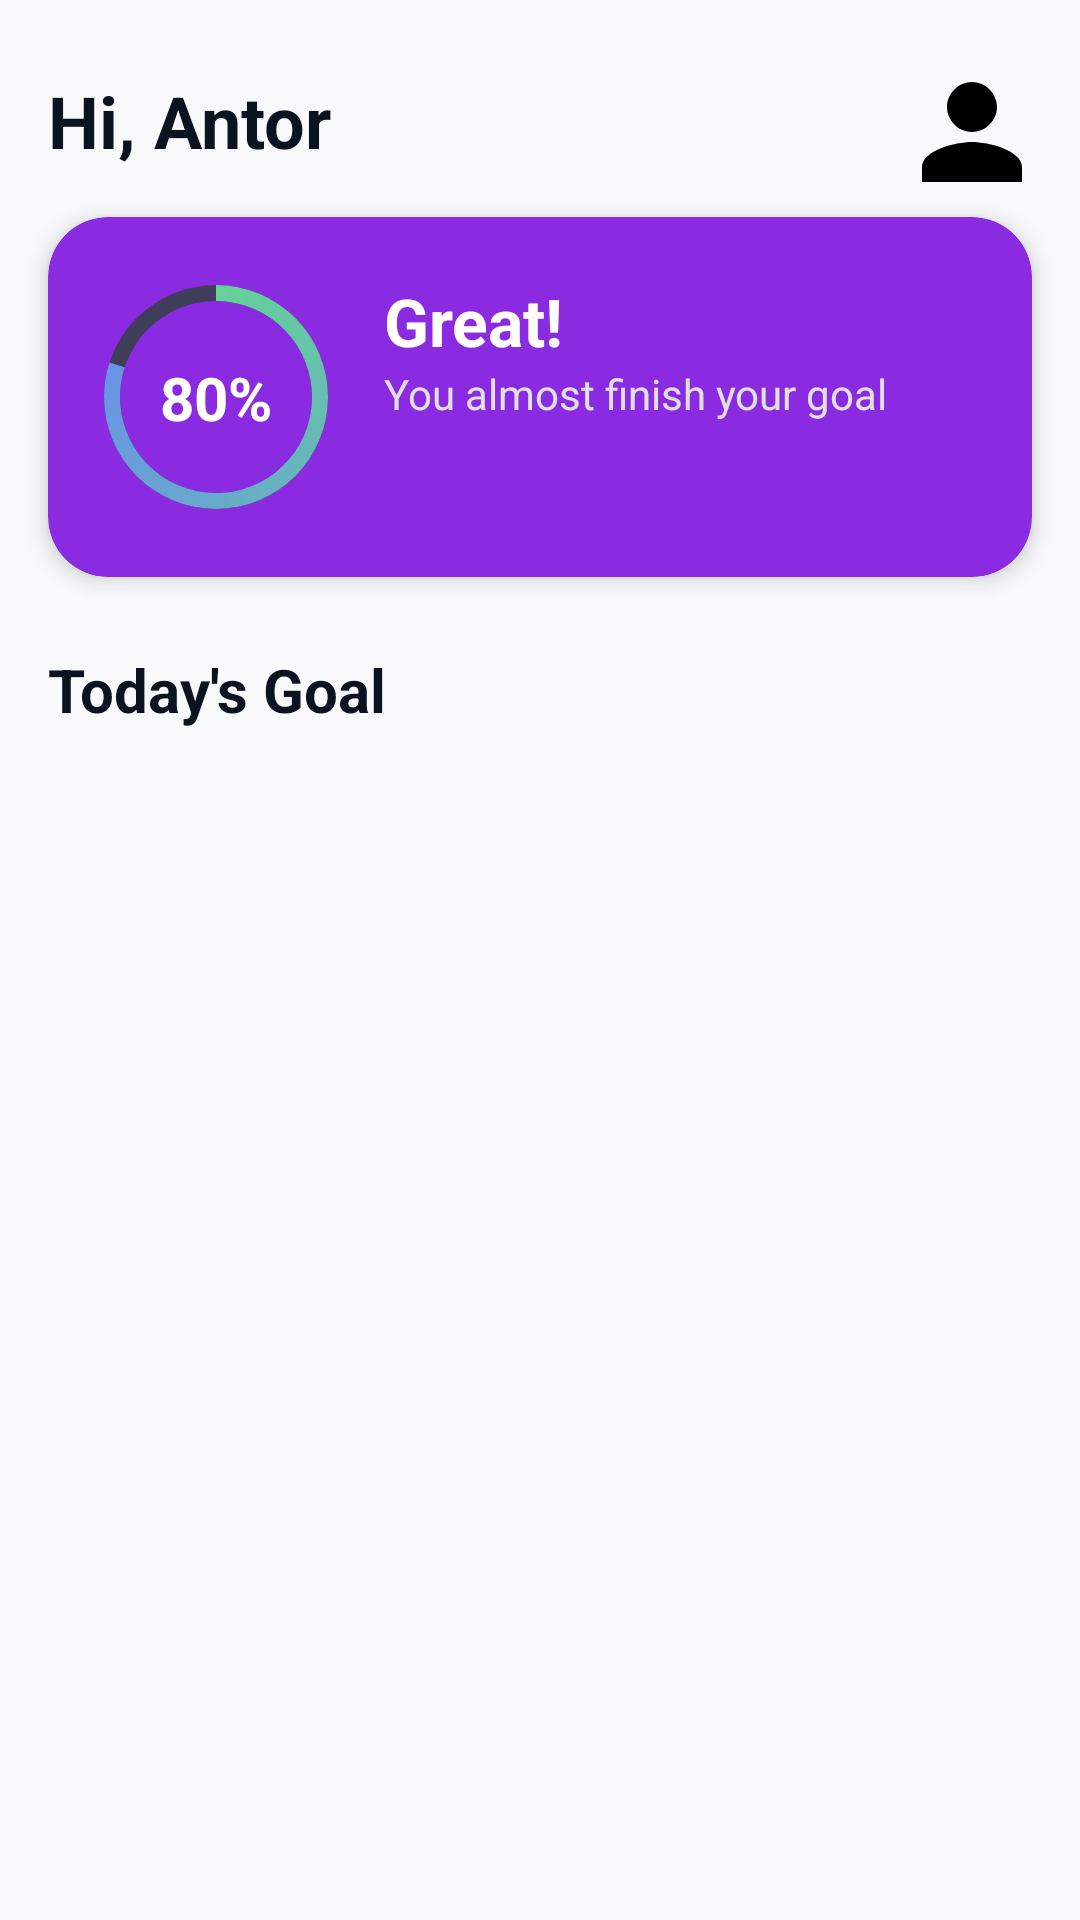

Named icons in this screenshot (1080 × 1920) and their centers, (x=x, y=y):
profile: (x=972, y=132)
